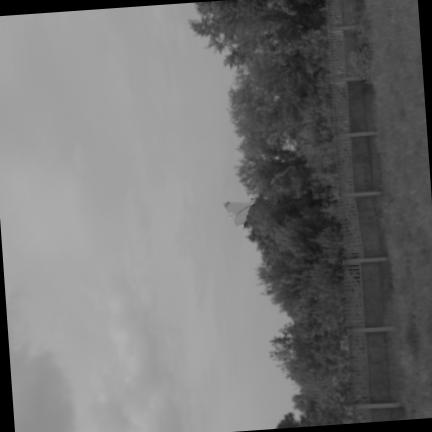Shahed: (221, 198, 256, 229)
